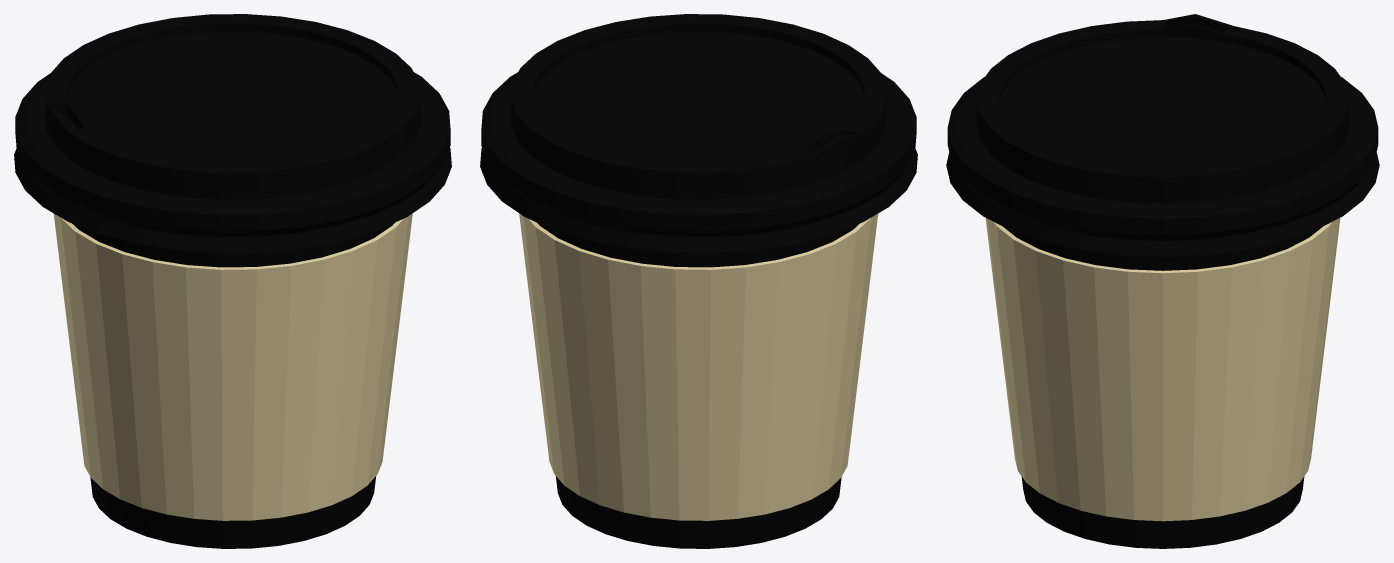
Rendered from Coffee.glb.
3 renders of one model, left to right at view 1: azimuth 30°, elevation 25°; view 2: azimuth 150°, elevation 25°; view 3: azimuth 270°, elevation 25°, orthographic.
Parts seen in each view (by area): view 1: CoffeeCup, CoffeeCover; view 2: CoffeeCup, CoffeeCover; view 3: CoffeeCup, CoffeeCover.
Part boxes in pixels (left/top/right/bottom): CoffeeCup: left=14, top=14, right=451, bottom=548; CoffeeCover: left=53, top=213, right=412, bottom=520; CoffeeCup: left=480, top=14, right=917, bottom=548; CoffeeCover: left=519, top=213, right=878, bottom=520; CoffeeCup: left=946, top=14, right=1379, bottom=548; CoffeeCover: left=985, top=218, right=1340, bottom=521.
Bounding box in the file's own units: 59.13 × 59.84 × 59.13.
Materials: 2 (2 with a texture image).
